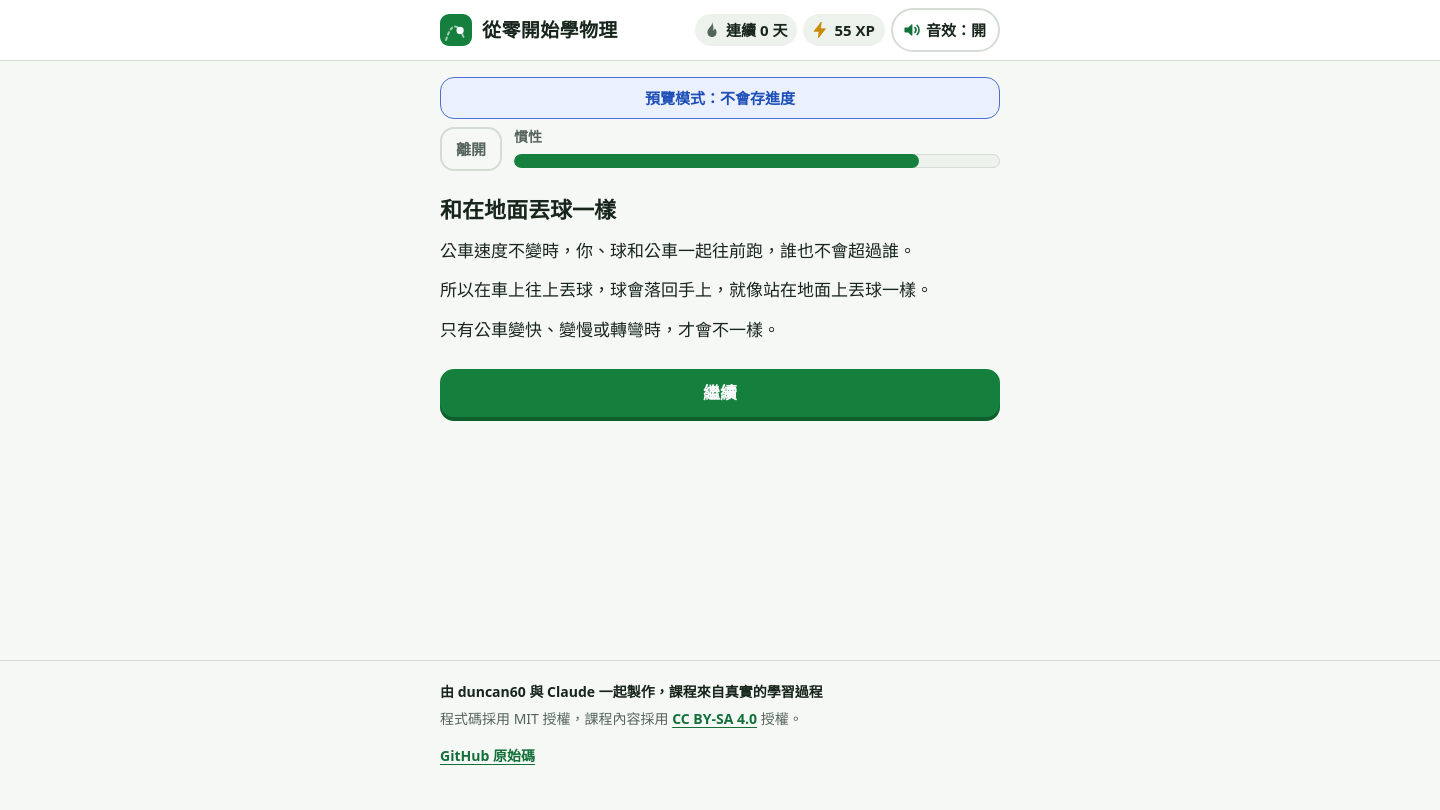
Scenario: 預覽到最後一步：完成畫面照常出現，但不存進度、不加 XP、不碰 localStorage；「回到地圖」回到預覽頁
Click the button "繼續" at (720, 393), box top-left (440, 369), bottom-right (1000, 417)
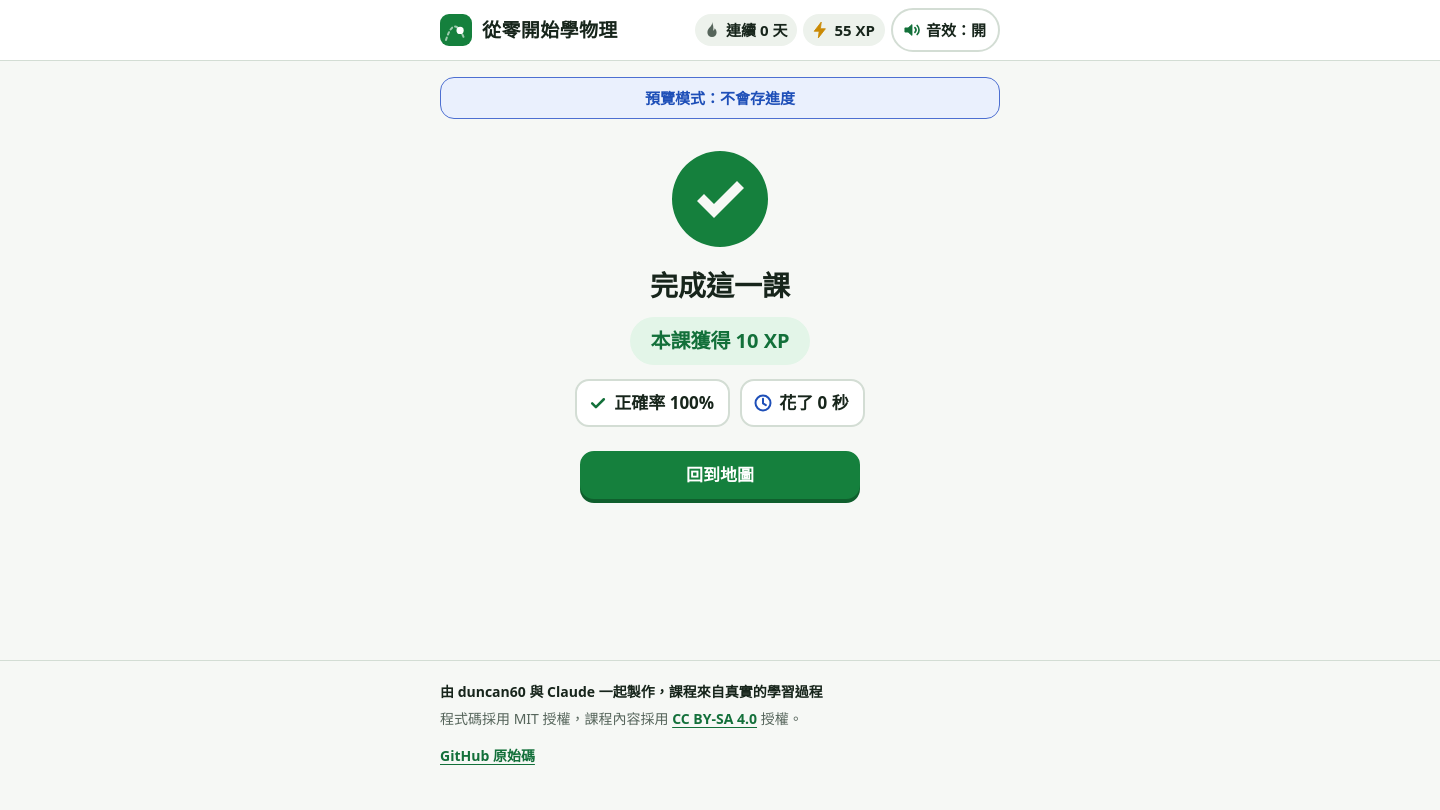
Expected: the heading "完成這一課" is shown, top-left (650, 266), bottom-right (790, 304)
Click the button "回到地圖" at (720, 475), box top-left (580, 451), bottom-right (860, 499)
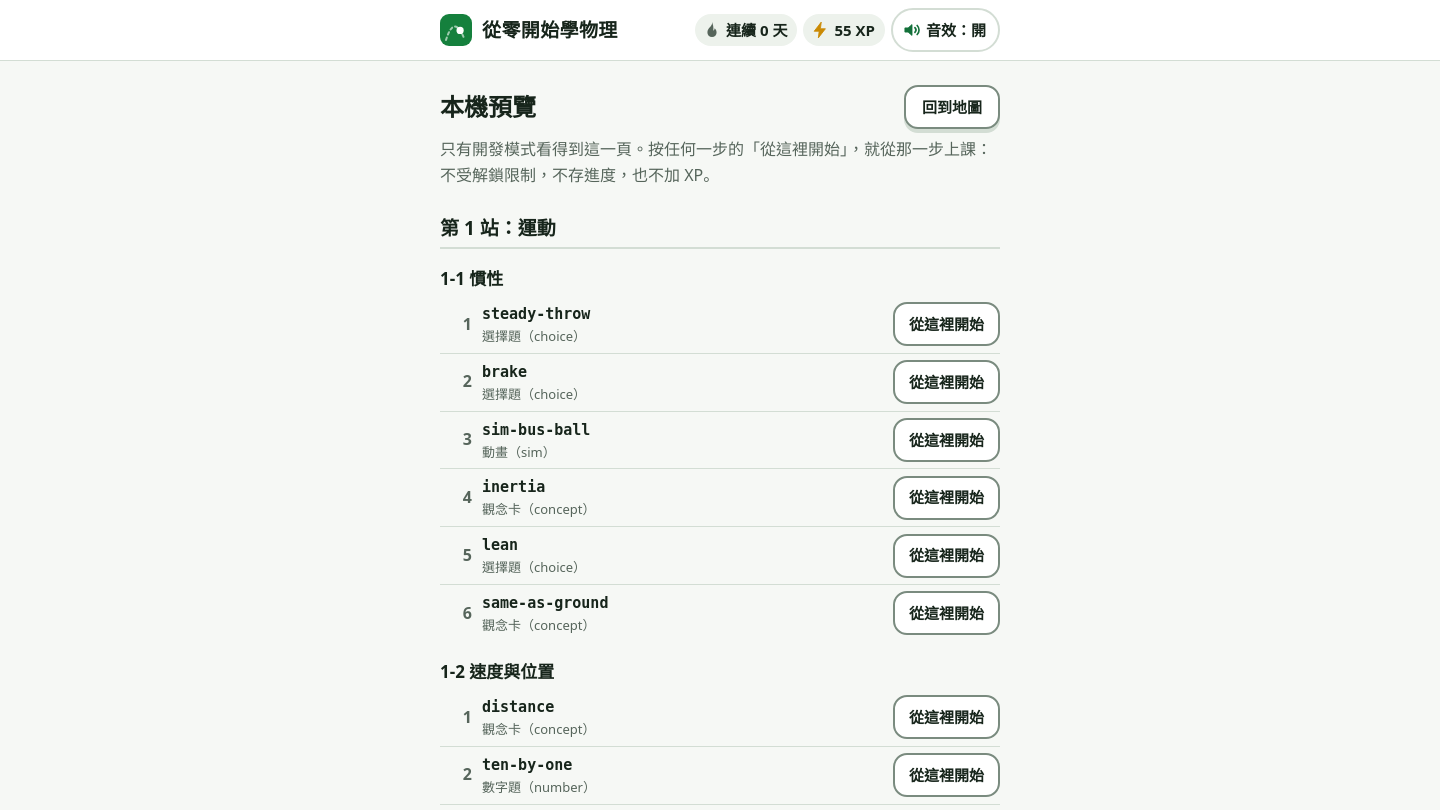
Expected: the heading "本機預覽" is shown, top-left (440, 91), bottom-right (536, 123)
